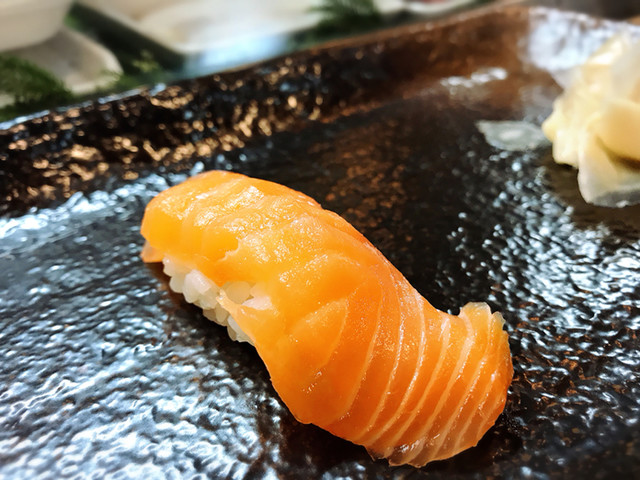salmon: (136, 168, 522, 472)
